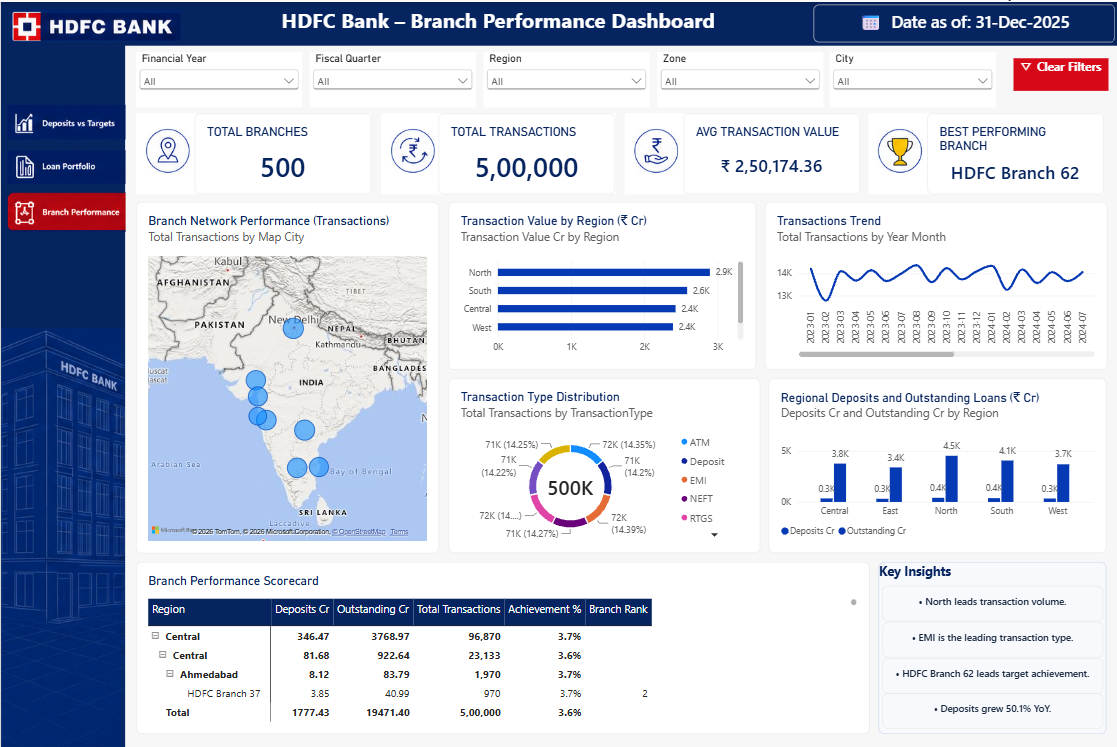

The page's visual inventory and layout, read from the dashboard file:
{"tool":"powerbi","page":{"name":"Branch Performance","canvas":[1536,1024],"ordinal":2},"visuals":[{"type":"textbox","box":[0,0,170,1024],"z":1},{"type":"textbox","box":[170,0,1366,60],"z":2},{"type":"image","box":[12,10,234,44],"z":3},{"type":"image","box":[0,448,170,576],"z":4},{"type":"textbox","box":[255,5,854,50],"z":5},{"type":"card","fields":{"Values":["FactTransactions.Reporting Date"]},"box":[1115,4,415,52],"z":6},{"type":"image","box":[8,138,162,55],"z":7},{"type":"image","box":[8,199,162,55],"z":9},{"type":"image","box":[8,260,162,55],"z":11},{"type":"slicer","title":"Financial Year","fields":{"Values":["DimDate.Financial Year"]},"box":[186,68,228,76],"z":13},{"type":"slicer","title":"Fiscal Quarter","fields":{"Values":["DimDate.Fiscal Quarter"]},"box":[424,68,228,76],"z":14},{"type":"slicer","title":"Region","fields":{"Values":["DimBranch.Region"]},"box":[662,68,228,76],"z":15},{"type":"slicer","title":"Zone","fields":{"Values":["DimBranch.Zone"]},"box":[900,68,228,76],"z":16},{"type":"slicer","title":"City","fields":{"Values":["DimBranch.City"]},"box":[1138,68,228,76],"z":17},{"type":"textbox","box":[1390,78,130,45],"z":18},{"type":"textbox","box":[186,152,322,111],"z":19},{"type":"card","title":"TOTAL BRANCHES","fields":{"Values":["DimBranch.Total Branches"]},"box":[266,152,242,111],"z":20},{"type":"textbox","box":[521,152,322,111],"z":20},{"type":"card","title":"TOTAL TRANSACTIONS","fields":{"Values":["FactTransactions.Total Transactions"]},"box":[601,152,242,111],"z":21},{"type":"textbox","box":[856,152,322,111],"z":21},{"type":"card","title":"AVG TRANSACTION VALUE","fields":{"Values":["FactTransactions.Avg Transaction Value"]},"box":[936,152,242,111],"z":22},{"type":"textbox","box":[1191,152,322,111],"z":22},{"type":"card","title":"BEST PERFORMING BRANCH","fields":{"Values":["DimBranch.Best Branch"]},"box":[1271,152,242,111],"z":23},{"type":"map","title":"Branch Network Performance (Transactions)","fields":{"Category":["DimBranch.Map City"],"Size":["FactTransactions.Total Transactions"]},"box":[186,274,416,482],"z":24},{"type":"clusteredBarChart","title":"Transaction Value by Region (₹ Cr)","fields":{"Category":["DimBranch.Region"],"Y":["FactTransactions.Transaction Value Cr"]},"box":[614,274,422,230],"z":25},{"type":"lineChart","title":"Transactions Trend","fields":{"Category":["DimDate.Year Month"],"Y":["FactTransactions.Total Transactions"]},"box":[1048,274,470,230],"z":26},{"type":"donutChart","title":"Transaction Type Distribution","fields":{"Category":["FactTransactions.TransactionType"],"Y":["FactTransactions.Total Transactions"]},"box":[614,516,428,240],"z":27},{"type":"clusteredColumnChart","title":"Regional Deposits and Outstanding Loans (₹ Cr)","fields":{"Category":["DimBranch.Region"],"Y":["FactTransactions.Deposits Cr","FactLoanRepayments.Outstanding Cr"]},"box":[1054,516,464,240],"z":28},{"type":"pivotTable","title":"Branch Performance Scorecard","fields":{"Rows":["DimBranch.Region","DimBranch.Zone","DimBranch.City","DimBranch.BranchName"],"Values":["FactTransactions.Deposits Cr","FactLoanRepayments.Outstanding Cr","FactTransactions.Total Transactions","FactTransactions.Achievement %","DimBranch.Branch Rank"]},"box":[186,768,1007,236],"z":29},{"type":"image","box":[198,174,64,64],"z":120},{"type":"image","box":[533,174,64,64],"z":121},{"type":"image","box":[868,174,64,64],"z":122},{"type":"image","box":[1203,174,64,64],"z":123},{"type":"textbox","box":[1205,768,313,236],"z":130},{"type":"card","fields":{"Values":["DimBranch.Branch Insights 1"]},"box":[1210,802,303,49],"z":132},{"type":"card","fields":{"Values":["DimBranch.Branch Insights 2"]},"box":[1210,851,303,49],"z":133},{"type":"card","fields":{"Values":["DimBranch.Branch Insights 3"]},"box":[1210,900,303,49],"z":134},{"type":"card","fields":{"Values":["DimBranch.Branch Insights 4"]},"box":[1210,949,303,49],"z":135},{"type":"actionButton","box":[8,138,162,55],"z":507},{"type":"actionButton","box":[8,199,162,55],"z":509},{"type":"actionButton","box":[8,260,162,55],"z":511},{"type":"actionButton","box":[1390,78,130,45],"z":518}]}

Visuals, with their boxes on the page's 1536x1024 design canvas (x1, y1, x2, y2). These are canvas units, not pixel positions in the 1117x747 screenshot, which may show the page scaled, cropped or inside an application window:
textbox: <region>0, 0, 170, 1024</region>
textbox: <region>170, 0, 1536, 60</region>
image: <region>12, 10, 246, 54</region>
image: <region>0, 448, 170, 1024</region>
textbox: <region>255, 5, 1109, 55</region>
card - FactTransactions.Reporting Date: <region>1115, 4, 1530, 56</region>
image: <region>8, 138, 170, 193</region>
image: <region>8, 199, 170, 254</region>
image: <region>8, 260, 170, 315</region>
"Financial Year" slicer: <region>186, 68, 414, 144</region>
"Fiscal Quarter" slicer: <region>424, 68, 652, 144</region>
"Region" slicer: <region>662, 68, 890, 144</region>
"Zone" slicer: <region>900, 68, 1128, 144</region>
"City" slicer: <region>1138, 68, 1366, 144</region>
textbox: <region>1390, 78, 1520, 123</region>
textbox: <region>186, 152, 508, 263</region>
"TOTAL BRANCHES" card: <region>266, 152, 508, 263</region>
textbox: <region>521, 152, 843, 263</region>
"TOTAL TRANSACTIONS" card: <region>601, 152, 843, 263</region>
textbox: <region>856, 152, 1178, 263</region>
"AVG TRANSACTION VALUE" card: <region>936, 152, 1178, 263</region>
textbox: <region>1191, 152, 1513, 263</region>
"BEST PERFORMING BRANCH" card: <region>1271, 152, 1513, 263</region>
"Branch Network Performance (Transactions)" map: <region>186, 274, 602, 756</region>
"Transaction Value by Region (₹ Cr)" clusteredBarChart: <region>614, 274, 1036, 504</region>
"Transactions Trend" lineChart: <region>1048, 274, 1518, 504</region>
"Transaction Type Distribution" donutChart: <region>614, 516, 1042, 756</region>
"Regional Deposits and Outstanding Loans (₹ Cr)" clusteredColumnChart: <region>1054, 516, 1518, 756</region>
"Branch Performance Scorecard" pivotTable: <region>186, 768, 1193, 1004</region>
image: <region>198, 174, 262, 238</region>
image: <region>533, 174, 597, 238</region>
image: <region>868, 174, 932, 238</region>
image: <region>1203, 174, 1267, 238</region>
textbox: <region>1205, 768, 1518, 1004</region>
card - DimBranch.Branch Insights 1: <region>1210, 802, 1513, 851</region>
card - DimBranch.Branch Insights 2: <region>1210, 851, 1513, 900</region>
card - DimBranch.Branch Insights 3: <region>1210, 900, 1513, 949</region>
card - DimBranch.Branch Insights 4: <region>1210, 949, 1513, 998</region>
actionButton: <region>8, 138, 170, 193</region>
actionButton: <region>8, 199, 170, 254</region>
actionButton: <region>8, 260, 170, 315</region>
actionButton: <region>1390, 78, 1520, 123</region>
